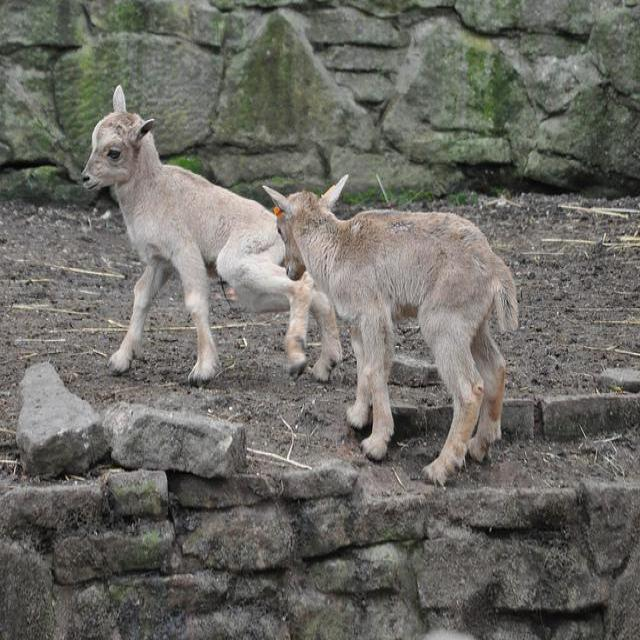Sheep: (260, 174, 519, 485), (85, 84, 343, 387)
